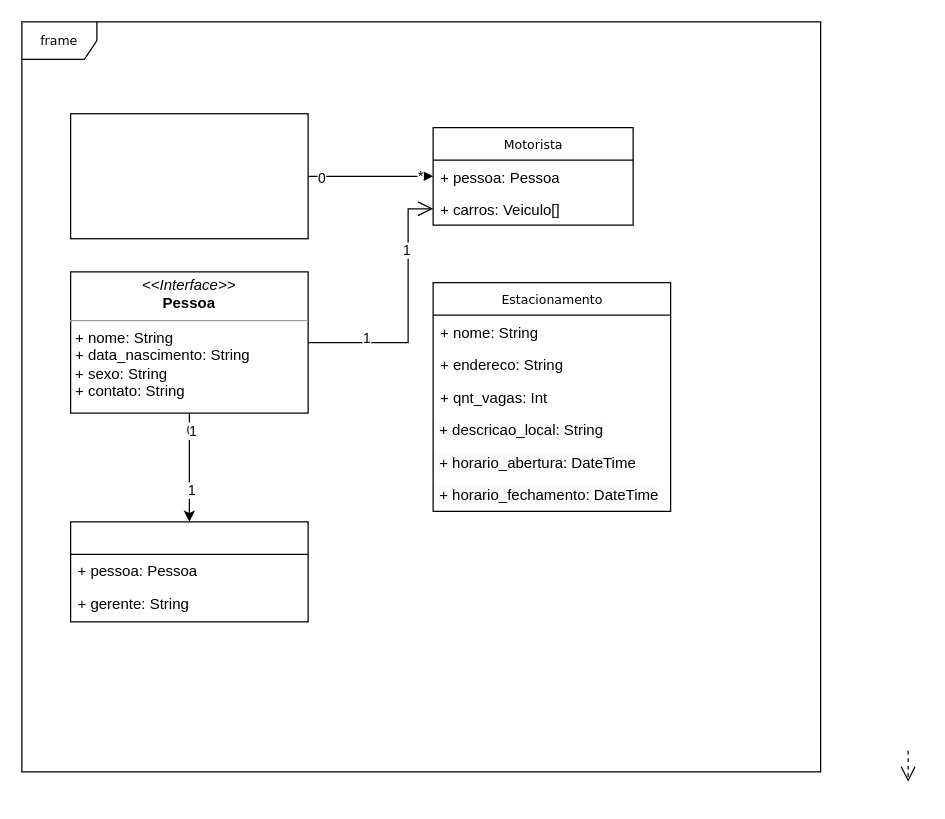
Some shapes in this 945 by 819 pixel diagram are drawn without their labels. Here are the shapes that lost their labels. From the top down, the box of each, then its label:
(69, 112, 308, 239): <<Interface>> Veículo + marca: String + modelo: String + placa: String
(69, 521, 308, 622): Administrador
